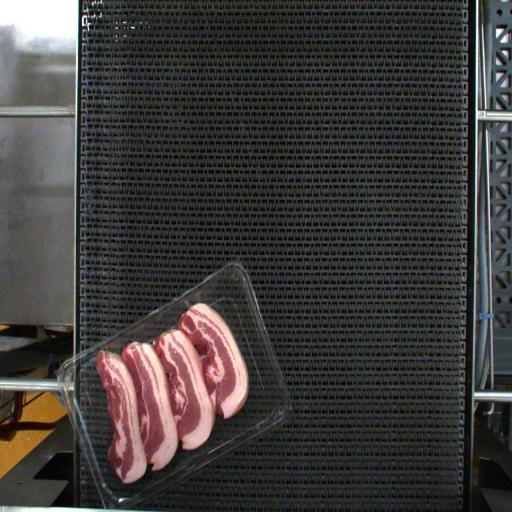packaging-error: (184, 289, 205, 308)
